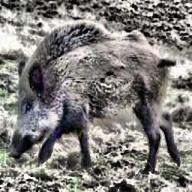boar: (7, 19, 181, 174)
